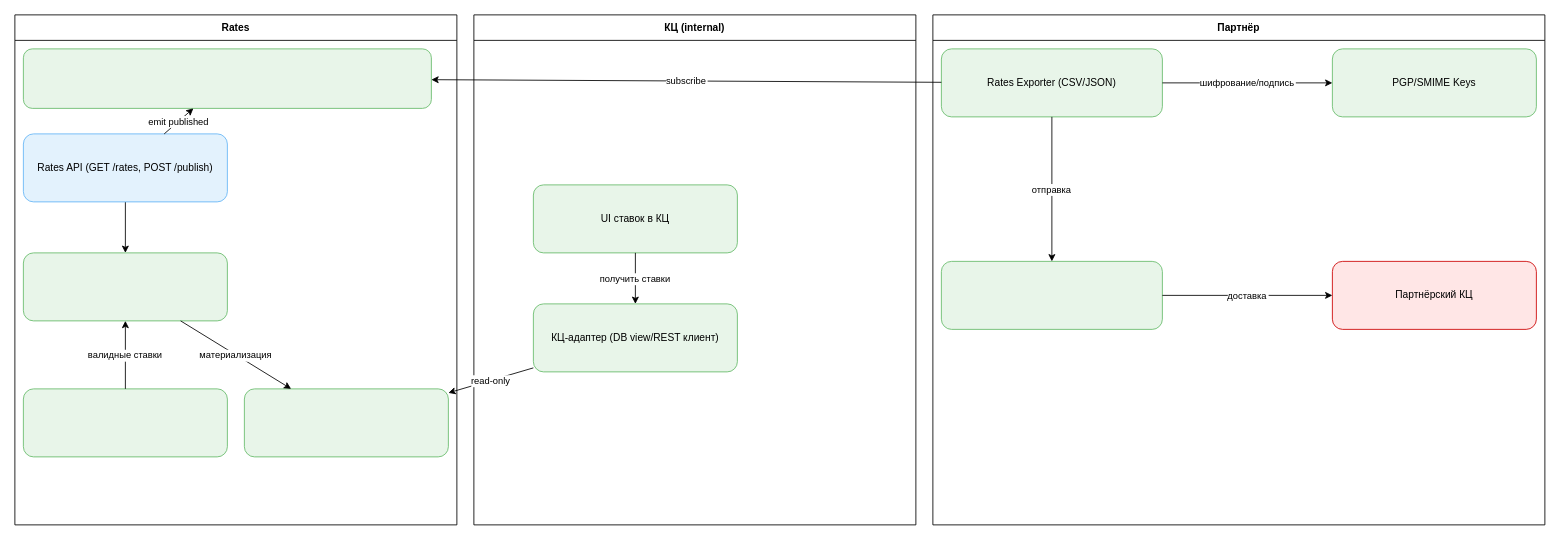
The diagram is 1560 pixels wide and 540 high, and some of its shapes have lost their labels. Here are the shapes that lost their labels. From the top down, the centre of each, then its label:
At pixel 227 78: "rates.published (event)".
At pixel 125 286: "Rates DB (MS SQL/Oracle) версионирование, аудит".
At pixel 1051 295: "Mail Gateway".
At pixel 125 422: "XLS Import/Validator".
At pixel 346 422: "rates_view_current".
